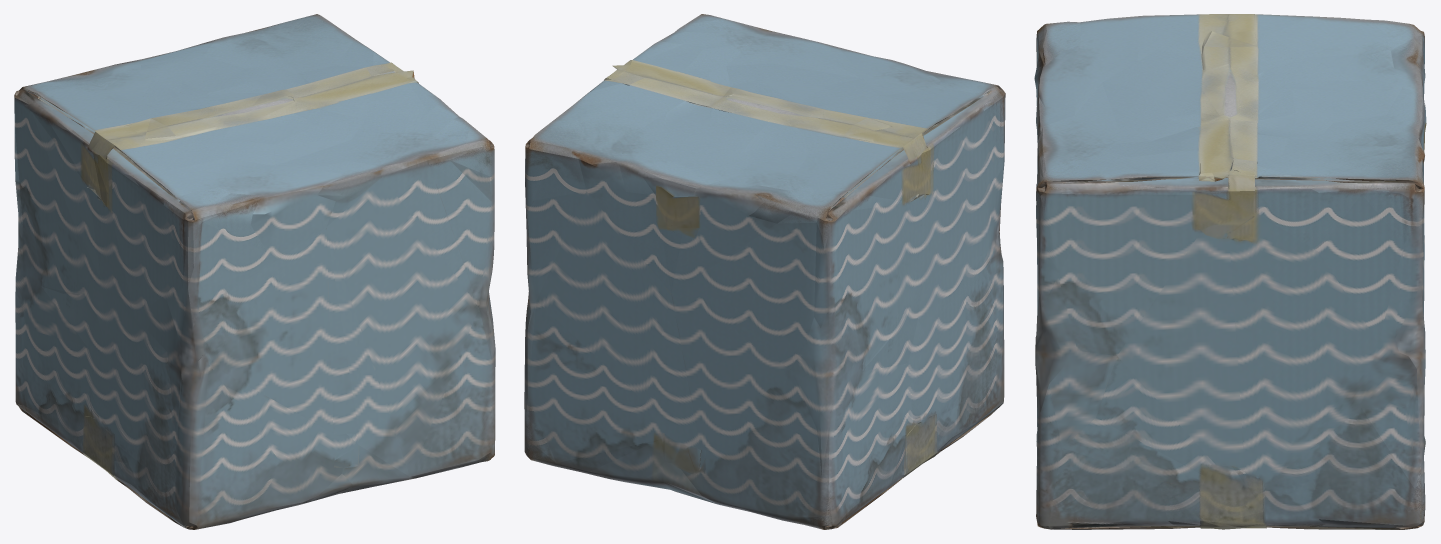
Rendered from scatolone_blu.glb.
3 renders of one model, left to right at view 1: azimuth 30°, elevation 25°; view 2: azimuth 150°, elevation 25°; view 3: azimuth 270°, elevation 25°, orthographic. The views are drawn at different scales.
Visible parts, largest first — view 1: Mesh_0; view 2: Mesh_0; view 3: Mesh_0.
Part boxes in pixels (left/top/right/bottom): Mesh_0: left=14, top=14, right=495, bottom=529; Mesh_0: left=524, top=14, right=1005, bottom=529; Mesh_0: left=1034, top=14, right=1426, bottom=529.
Bounding box in the file's own units: 1.88 × 1.91 × 1.88.
1 material, 1 textured.
